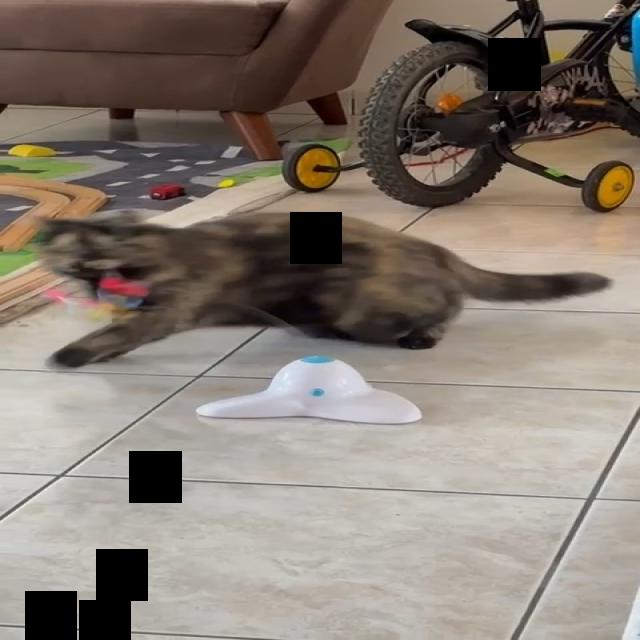authorized: (34, 208, 614, 369)
